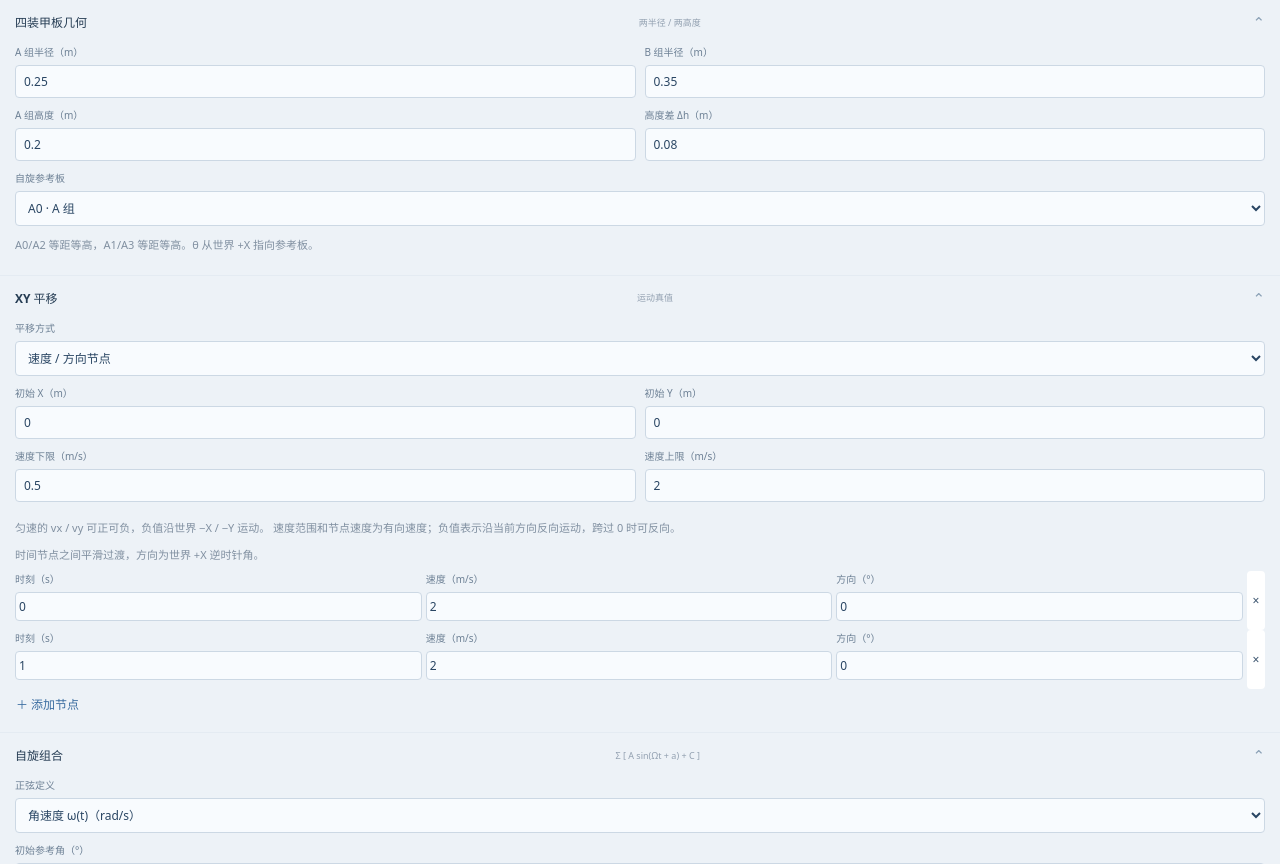
signed scene configuration › discards a deleted waypoint's partial input when the following speed has the same value
Replace the text in the 1st number field labelled "速度（m/s）" with "-" at (629, 607), box [426,592,832,621]
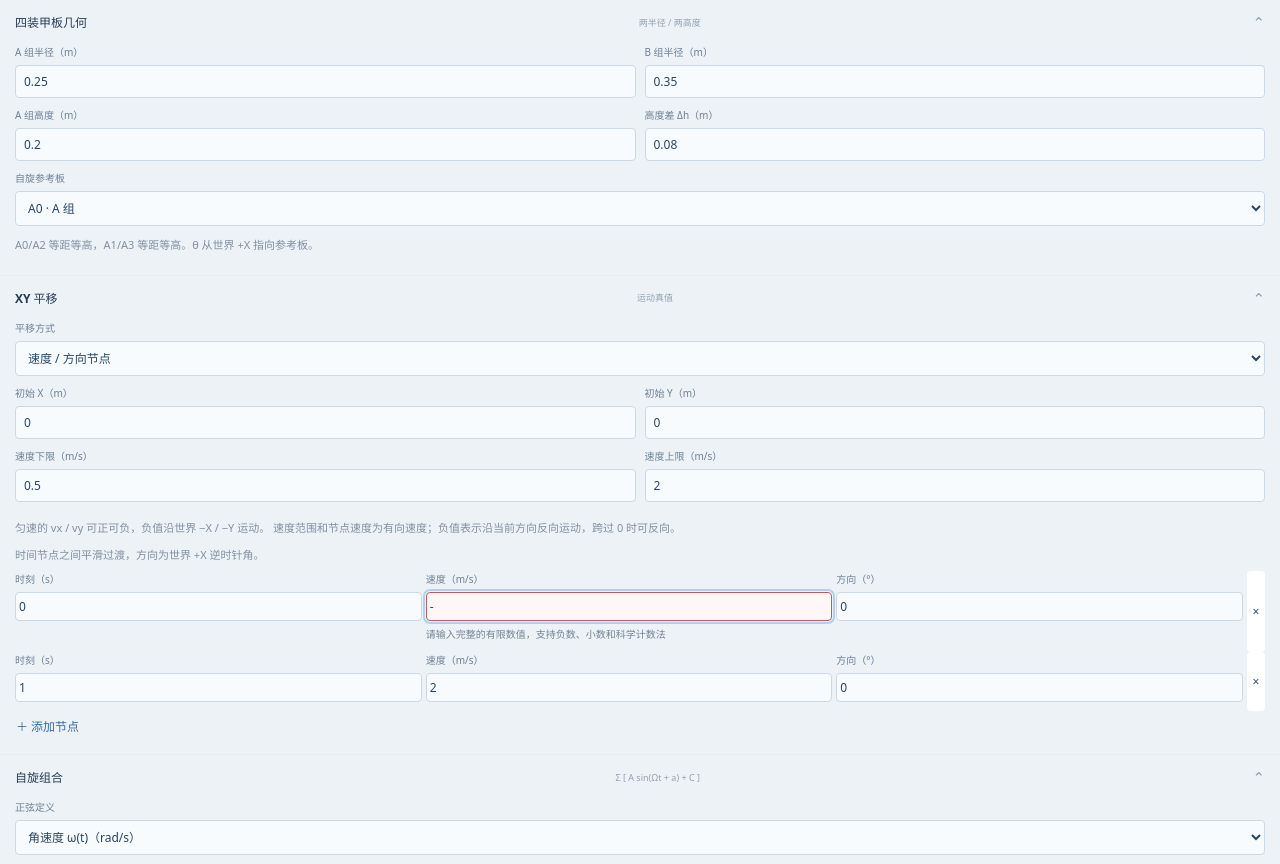
Check: the number field labelled "速度（m/s）" is marked as invalid, box [426,592,832,621]
Click the button named "删除节点 1" at (1256, 612), box [1247,571,1265,652]
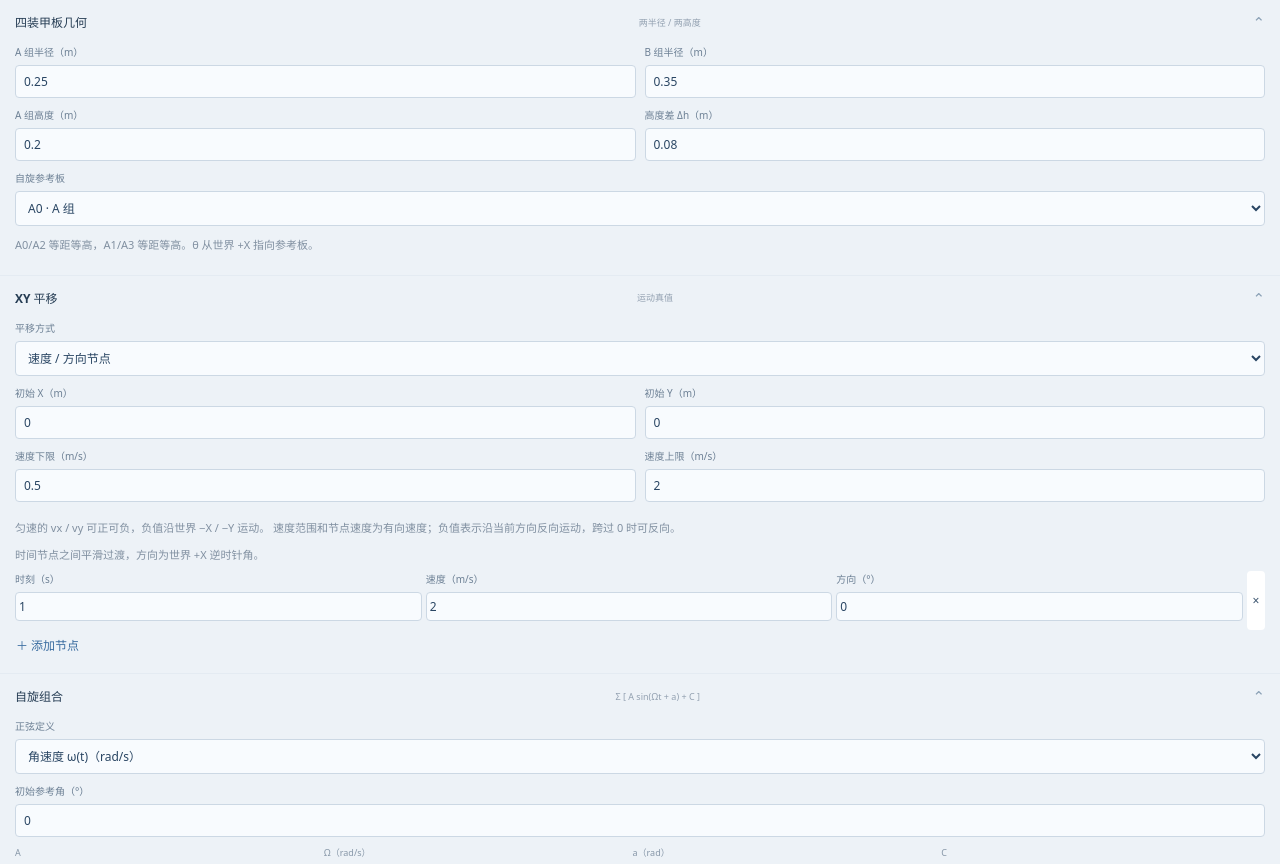
Check: the number field labelled "速度（m/s）" holds "2", box [426,592,832,621]
